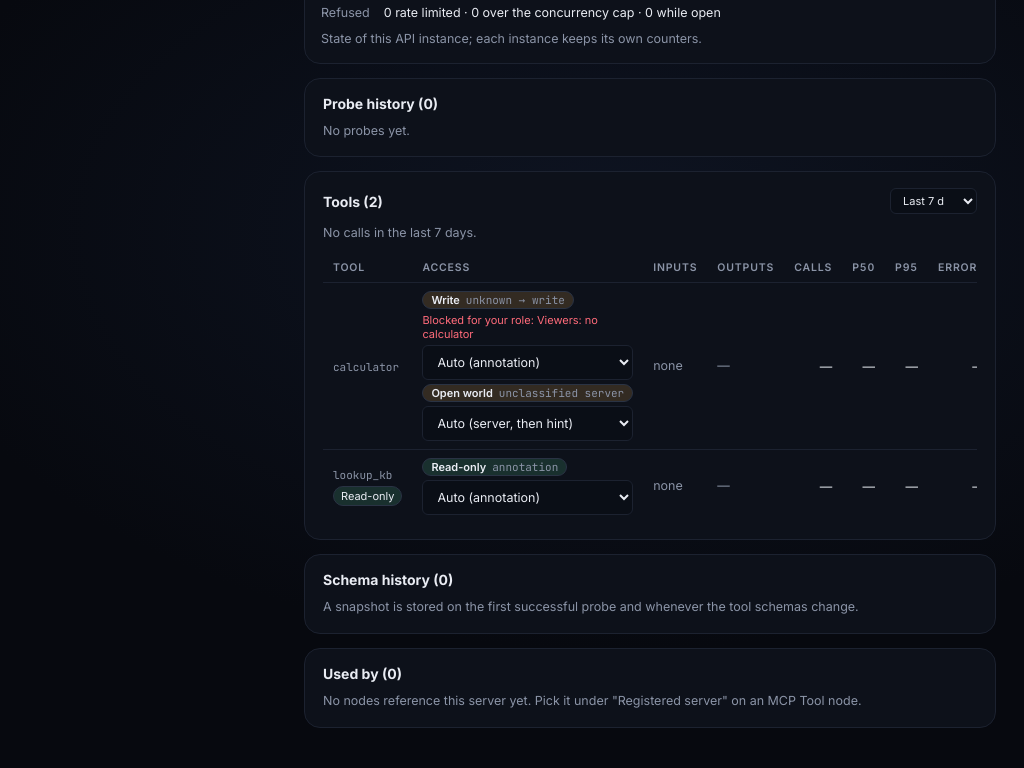
Test: MCP tool policy UI › shows whether a tool is open world and why, and lets admins override it
(page scrolled)
Expected: the text "unclassified server" is shown, [499, 386, 624, 400]
Expected: the text "Open world" is shown, [431, 386, 493, 400]
Select "Mark not open world" in the dropdown named "Open world for calculator": (528, 424) [422, 406, 633, 441]
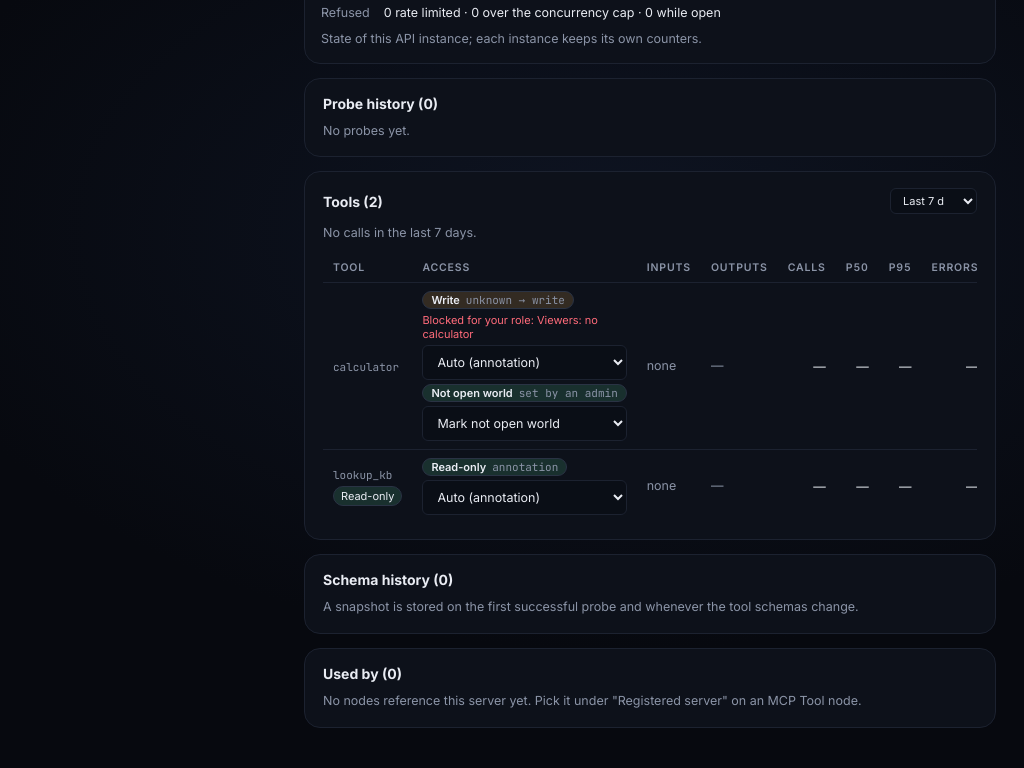
Expected: the text "Not open world" is shown, [431, 386, 513, 400]
Expected: the text "set by an admin" is shown, [519, 386, 618, 400]
